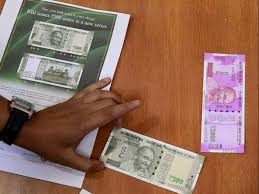fiveHundred: (112, 136, 194, 185), (32, 24, 86, 51)
